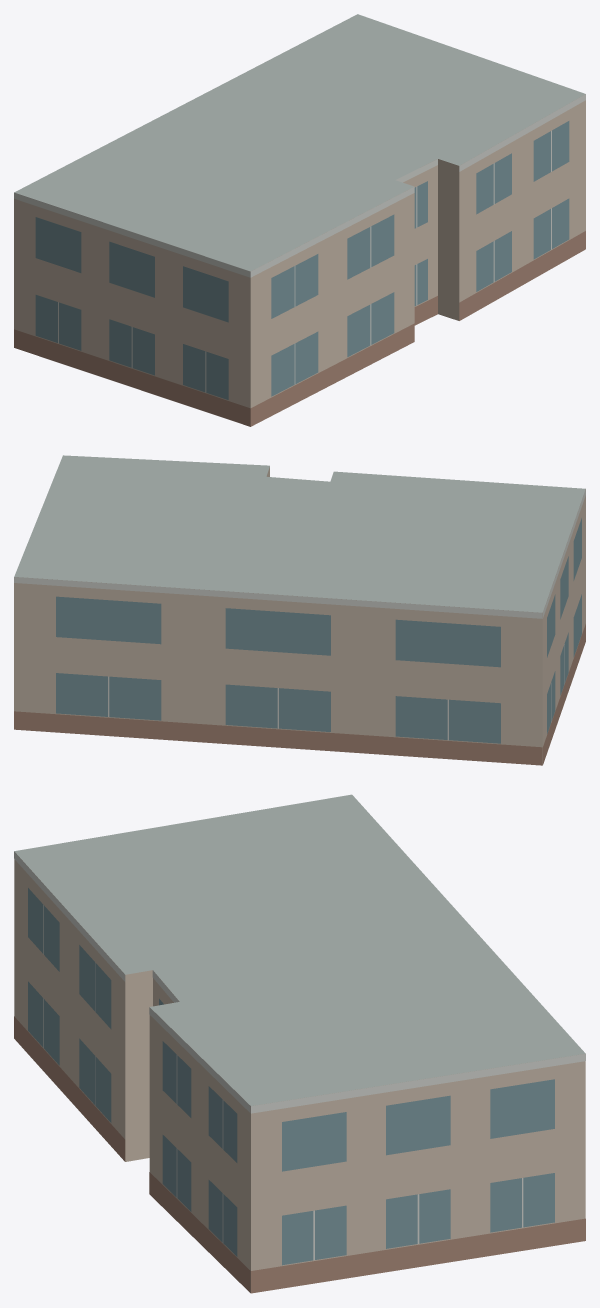
Rendered from survey-upis-32499764.glb.
3 renders of one model, top to bottom at view 1: azimuth 30°, elevation 25°; view 2: azimuth 150°, elevation 25°; view 3: azimuth 270°, elevation 25°, orthographic. The views are drawn at different scales.
Visible parts, largest first — view 1: survey-upis-32499764.tmp; view 2: survey-upis-32499764.tmp; view 3: survey-upis-32499764.tmp.
Boxes of the visible parts, x1,y1,x2,y2 form: survey-upis-32499764.tmp: [14, 14, 585, 426]; survey-upis-32499764.tmp: [14, 455, 585, 765]; survey-upis-32499764.tmp: [14, 794, 585, 1293].
Bounding box in the file's own units: 21.79 × 6.1 × 16.89.
